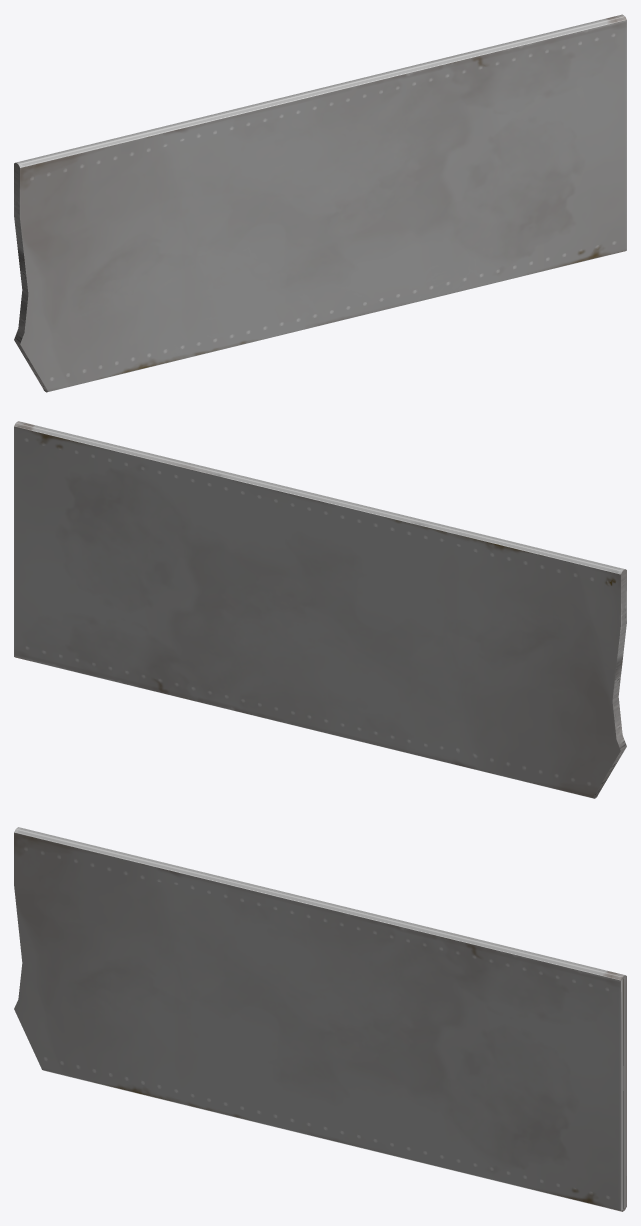
The model's file is Hub_Floor3.FBX.
3 renders of one model, top to bottom at view 1: azimuth 30°, elevation 25°; view 2: azimuth 150°, elevation 25°; view 3: azimuth 330°, elevation 25°, orthographic.
Visible parts, largest first — view 1: Floor006; view 2: Floor006; view 3: Floor006.
Part boxes in pixels (x1,y1,x2,y2): Floor006: (14, 14, 626, 392); Floor006: (14, 421, 626, 798); Floor006: (14, 827, 626, 1211).
Size of the model in its own units: 15.38 by 5.69 by 0.2703.
